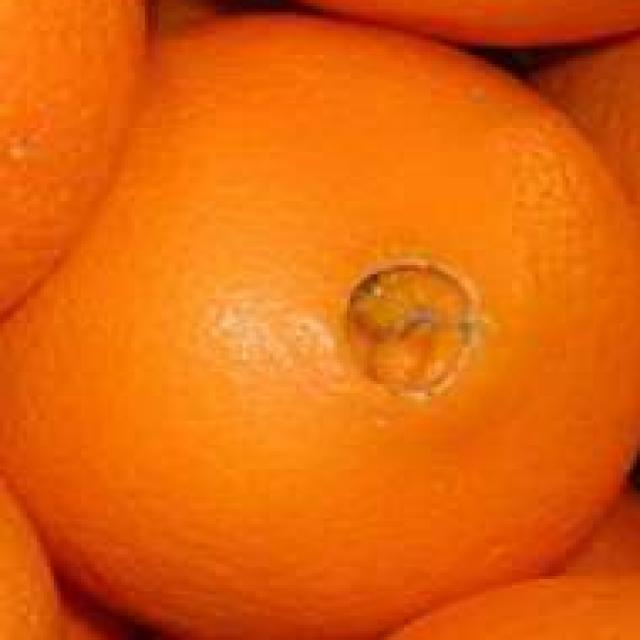Lime: (3, 3, 640, 640)
